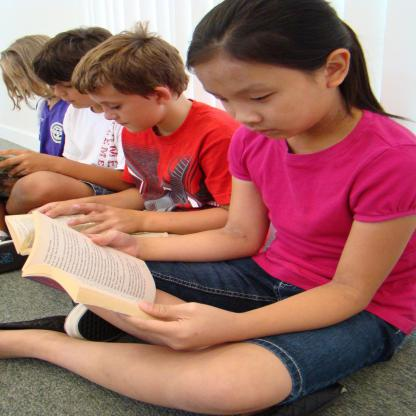face: (194, 59, 329, 141), (88, 82, 164, 132), (42, 73, 95, 109)
